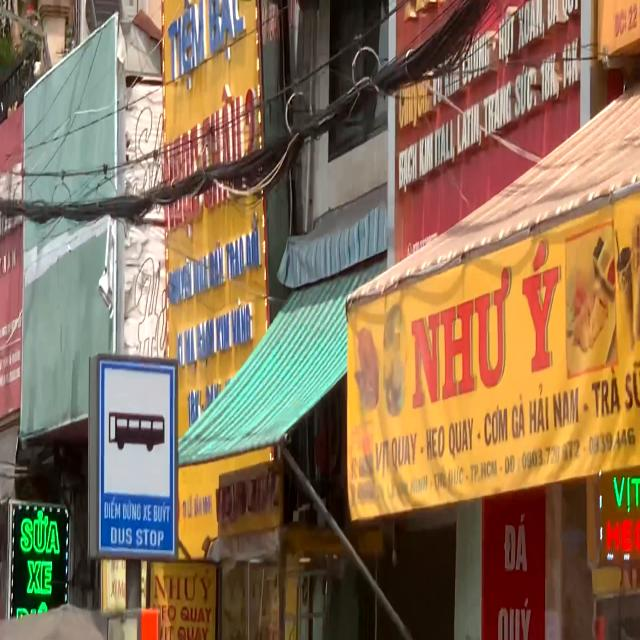R.434: (98, 357, 176, 558)
